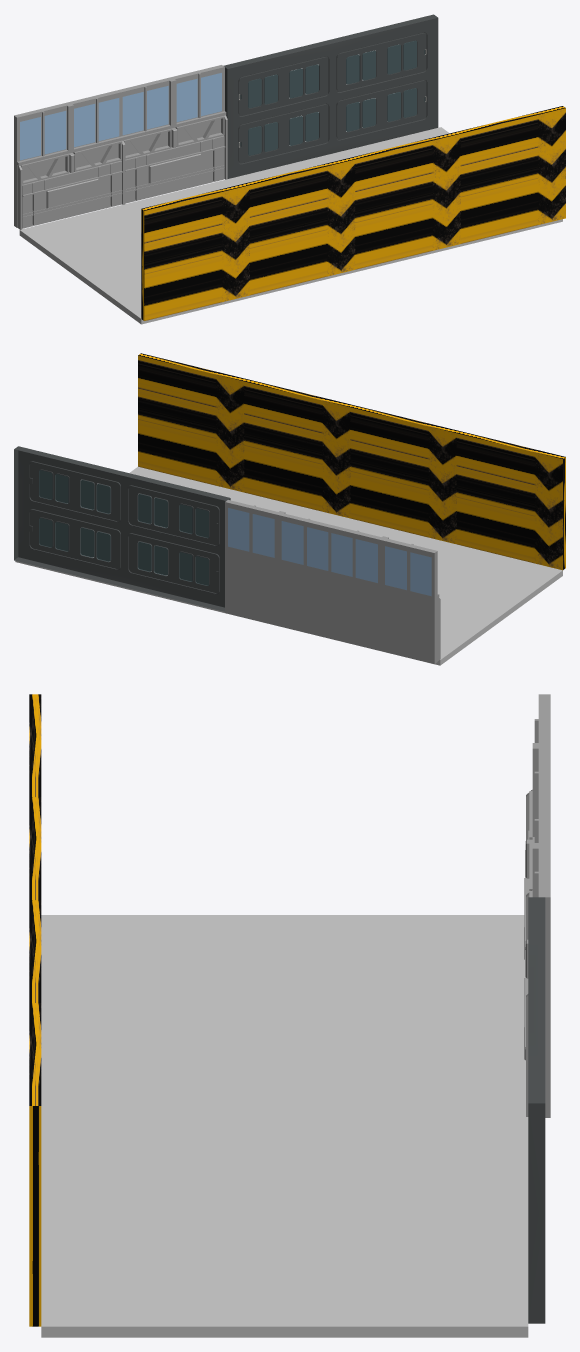
3 renders of one model, top to bottom at view 1: azimuth 30°, elevation 25°; view 2: azimuth 150°, elevation 25°; view 3: azimuth 270°, elevation 25°, orthographic. The views are drawn at different scales.
Parts seen in each view (by area): view 1: tsWall_v9_layout, polySurface3 (×2), tsWall_v1_layout, tsWall_v1_layout1, tsWall_v1_layout2, tsWall_v1_layout3, floor_v1_layout15, floor_v1_layout14, polySurface4 (×2), floor_v1_layout12, floor_v1_layout, floor_v1_layout3; view 2: polySurface3 (×2), tsWall_v9_layout, tsWall_v1_layout, tsWall_v1_layout3, tsWall_v1_layout1, tsWall_v1_layout2, floor_v1_layout14, floor_v1_layout15, floor_v1_layout13, floor_v1_layout2, floor_v1_layout1; view 3: floor_v1_layout, floor_v1_layout1, floor_v1_layout3, floor_v1_layout2, floor_v1_layout13, floor_v1_layout14, floor_v1_layout12, floor_v1_layout15, tsWall_v9_layout, polySurface3 (×2), tsWall_v1_layout3, tsWall_v1_layout (+2 smaller).
Part boxes in pixels (box(x1,y1,x2,y2)): tsWall_v9_layout: box(223, 14, 438, 178); polySurface3 (×2): box(14, 65, 227, 229); tsWall_v1_layout: box(141, 183, 249, 320); tsWall_v1_layout1: box(247, 157, 355, 295); tsWall_v1_layout2: box(352, 131, 460, 269); tsWall_v1_layout3: box(458, 106, 565, 243); floor_v1_layout15: box(19, 204, 141, 279); floor_v1_layout14: box(80, 260, 246, 324); polySurface4 (×2): box(20, 116, 224, 184); floor_v1_layout12: box(125, 178, 238, 215); floor_v1_layout: box(336, 127, 449, 158); floor_v1_layout3: box(230, 153, 343, 184); polySurface3 (×2): box(225, 500, 440, 664); tsWall_v9_layout: box(14, 446, 230, 611); tsWall_v1_layout: box(456, 431, 565, 570); tsWall_v1_layout3: box(138, 353, 246, 492); tsWall_v1_layout1: box(350, 405, 459, 544); tsWall_v1_layout2: box(244, 379, 352, 518); floor_v1_layout14: box(437, 544, 562, 620); floor_v1_layout15: box(435, 600, 501, 665); floor_v1_layout13: box(339, 518, 456, 557); floor_v1_layout2: box(233, 492, 349, 526); floor_v1_layout1: box(110, 466, 243, 527); floor_v1_layout: box(284, 1223, 528, 1337); floor_v1_layout1: box(41, 1223, 284, 1337); floor_v1_layout3: box(284, 1120, 528, 1223); floor_v1_layout2: box(41, 1120, 284, 1223); floor_v1_layout13: box(41, 1018, 284, 1120); floor_v1_layout14: box(41, 915, 284, 1017); floor_v1_layout12: box(284, 1018, 528, 1120); floor_v1_layout15: box(284, 915, 524, 1017); tsWall_v9_layout: box(528, 897, 545, 1323); polySurface3 (×2): box(524, 694, 550, 1117); tsWall_v1_layout3: box(29, 1003, 41, 1326); tsWall_v1_layout: box(29, 694, 41, 797).
Size of the model in its own units: 16 by 4.2 by 8.57.
